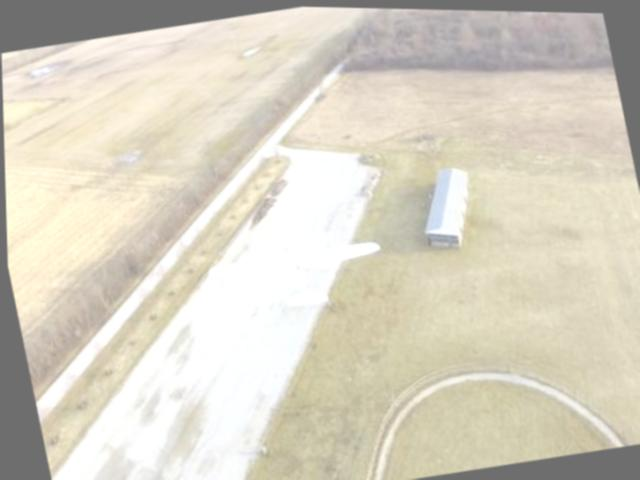uav: (194, 213, 398, 333)
